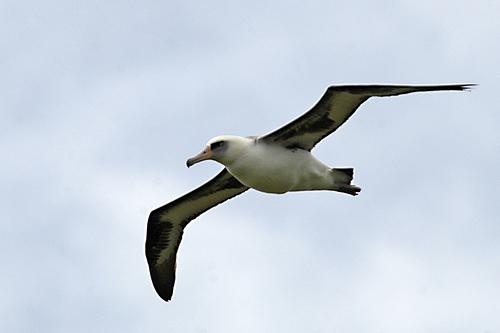bird: (145, 81, 477, 303)
